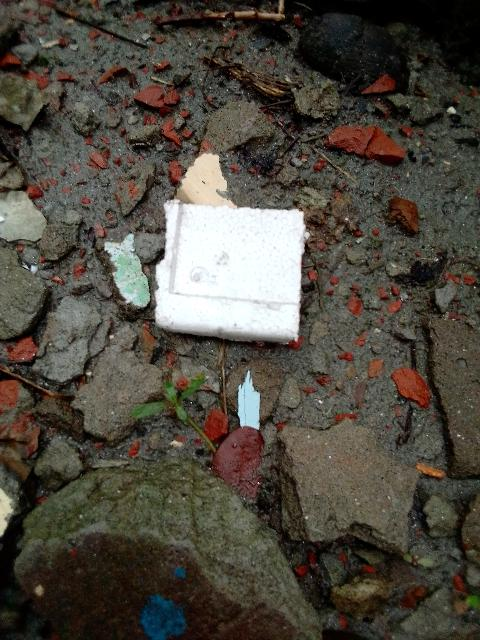cocksheet: (137, 185, 318, 357)
